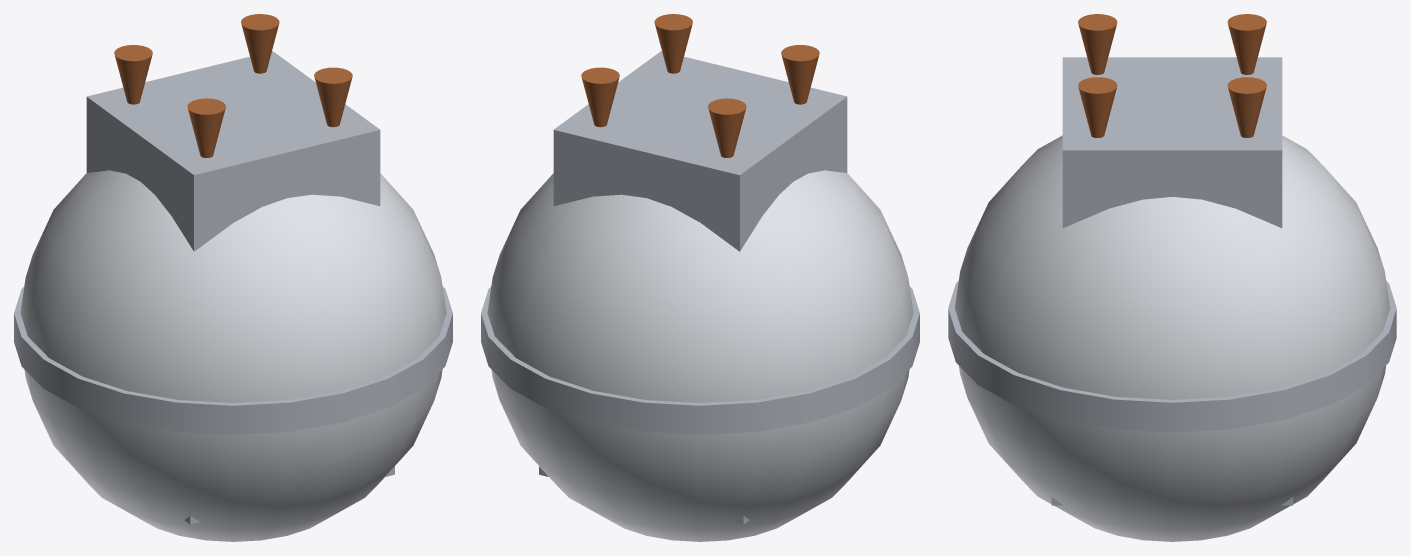
File: mono_cube.glb
3 views of the same model, side by side, from view 1: azimuth 30°, elevation 25°; view 2: azimuth 150°, elevation 25°; view 3: azimuth 270°, elevation 25° (orthographic). The views are drawn at different scales.
Parts seen in each view (by area): view 1: mc_tank, mc_module, mc_strap, mc_nozzle_1, mc_nozzle_0, mc_nozzle_2, mc_nozzle_3; view 2: mc_tank, mc_module, mc_strap, mc_nozzle_3, mc_nozzle_2, mc_nozzle_0, mc_nozzle_1; view 3: mc_tank, mc_module, mc_strap, mc_nozzle_0, mc_nozzle_2, mc_nozzle_1, mc_nozzle_3.
Part boxes in pixels (x1,y1,x2,y2): mc_tank: (20,170,446,541); mc_module: (86,51,380,251); mc_strap: (14,286,452,434); mc_nozzle_1: (314,67,352,127); mc_nozzle_0: (187,98,225,157); mc_nozzle_2: (114,45,152,104); mc_nozzle_3: (241,14,279,73); mc_tank: (487,170,913,541); mc_module: (553,51,847,251); mc_strap: (481,286,919,434); mc_nozzle_3: (581,67,619,127); mc_nozzle_2: (708,98,746,157); mc_nozzle_0: (781,45,819,104); mc_nozzle_1: (654,14,692,73); mc_tank: (955,135,1389,541); mc_module: (1062,57,1282,227); mc_strap: (948,281,1396,432); mc_nozzle_0: (1078,14,1117,74); mc_nozzle_2: (1227,14,1266,74); mc_nozzle_1: (1078,77,1117,137); mc_nozzle_3: (1227,77,1266,137).
Size of the model in its own units: 0.204 by 0.235 by 0.204.
